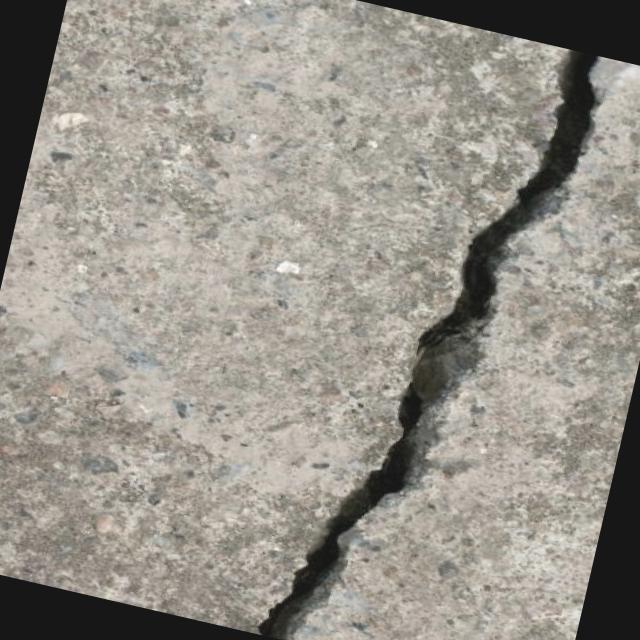crack: (251, 9, 611, 640)
